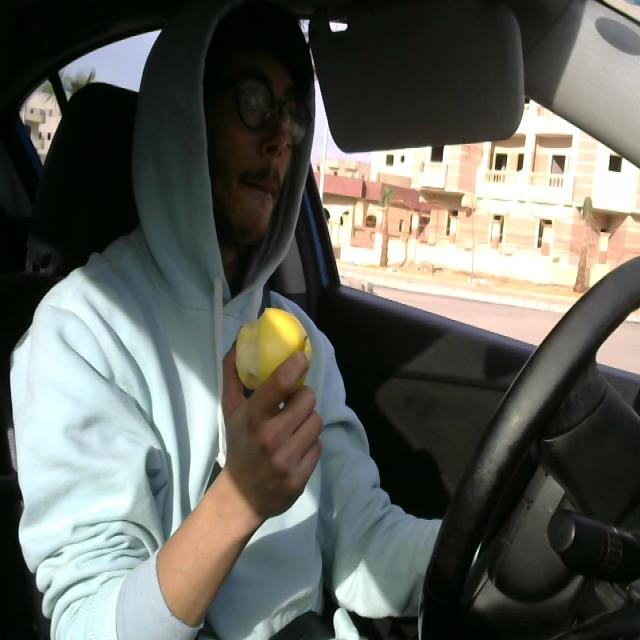eating: (228, 300, 313, 401)
